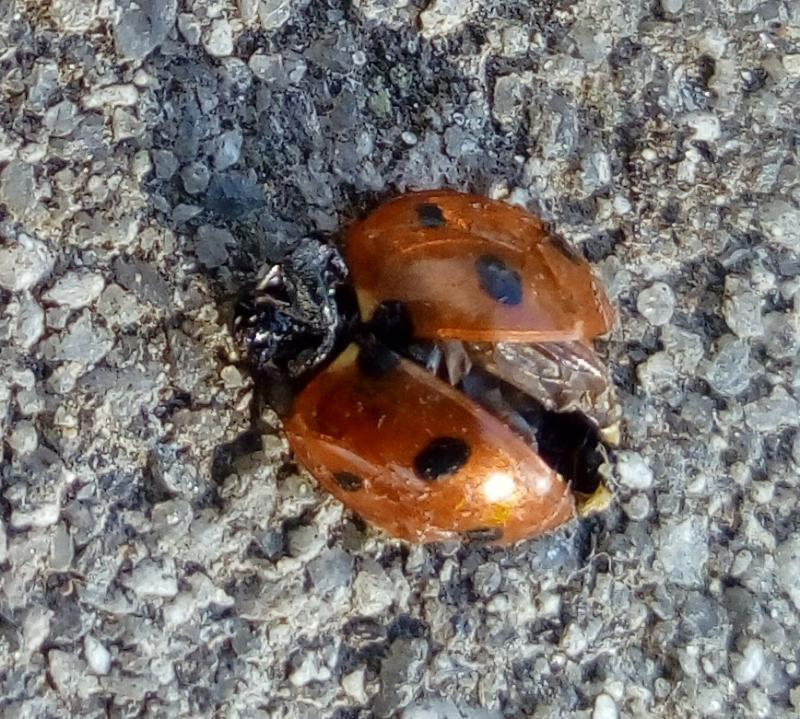ladybug: (223, 187, 623, 553)
